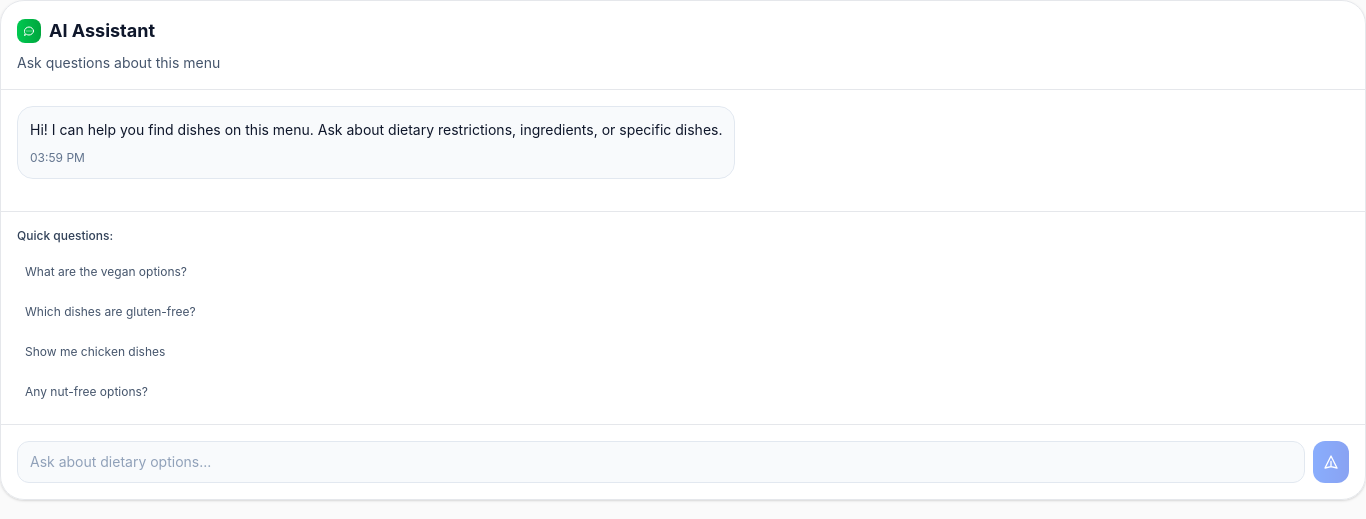
it: ChatInterface › hides quick questions after first user message
The image size is (1366, 519).
Expected: the text "Quick questions:" is shown, [17, 228, 113, 243]
Type "Test message" into the field with placeholder "Ask about dietary options..." at (661, 462), box [17, 441, 1305, 483]
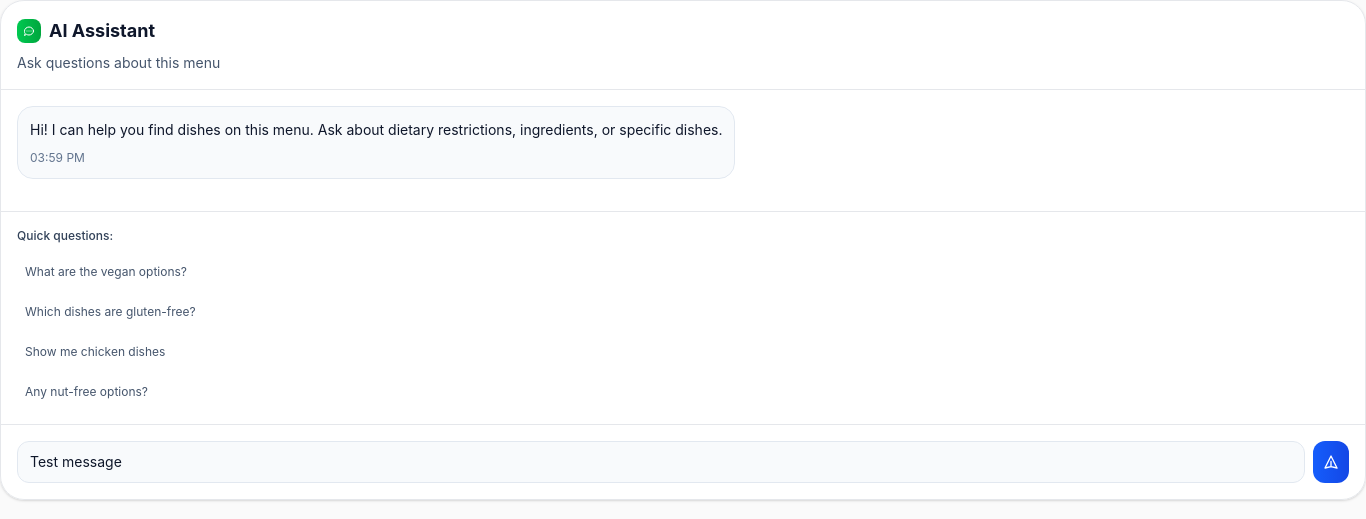
Click the 5th button at (1331, 462), box [1313, 441, 1349, 483]
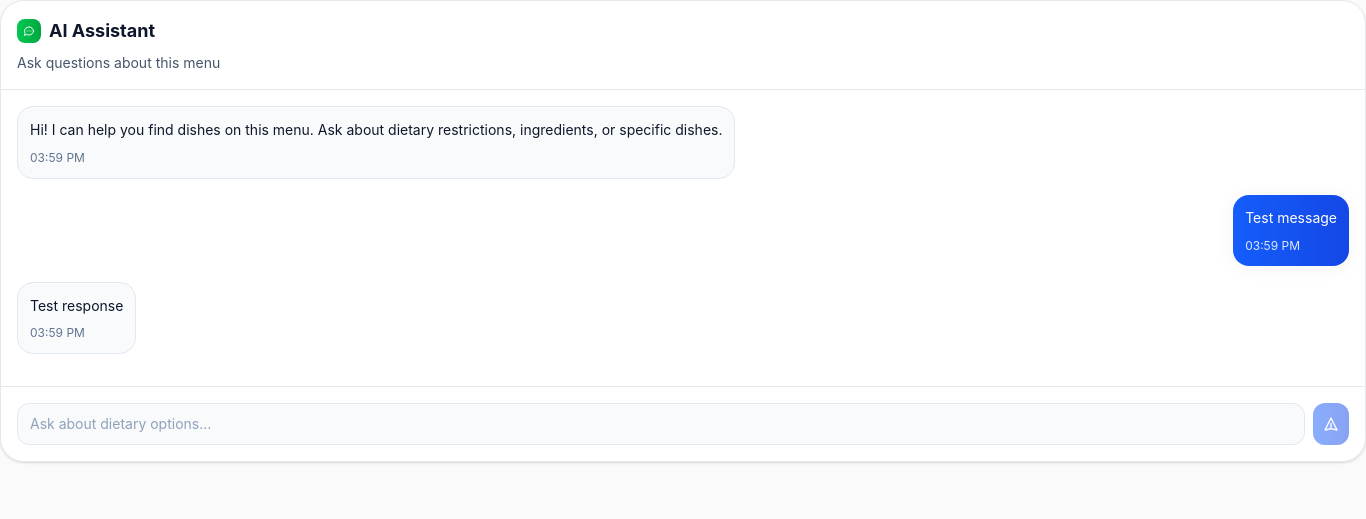
Result: the text "Quick questions:" is gone
